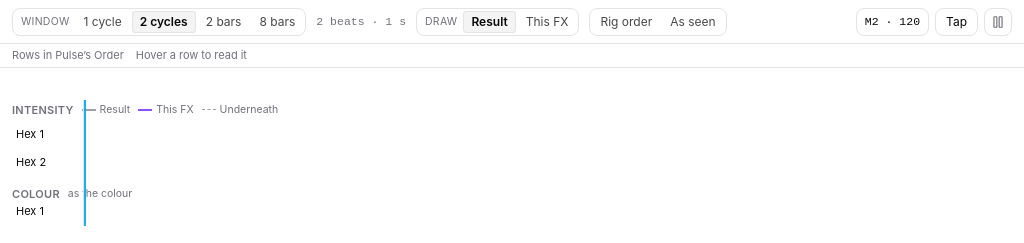
Test: the graph › keeps the toolbar’s choices as the window’s view state
Click the button "8 bars" at (277, 22), box left=252, top=10, right=303, bottom=32
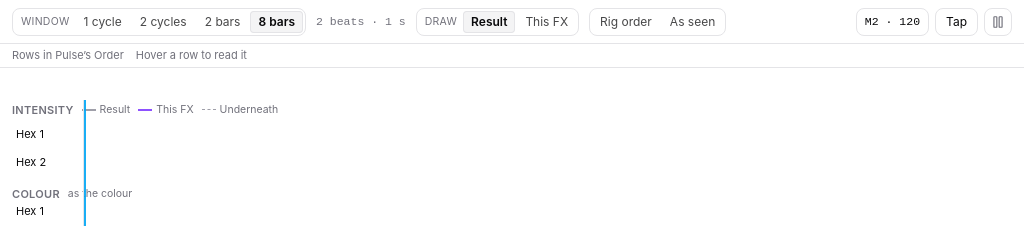
Click the button "This FX" at (547, 22), box left=517, top=10, right=576, bottom=32
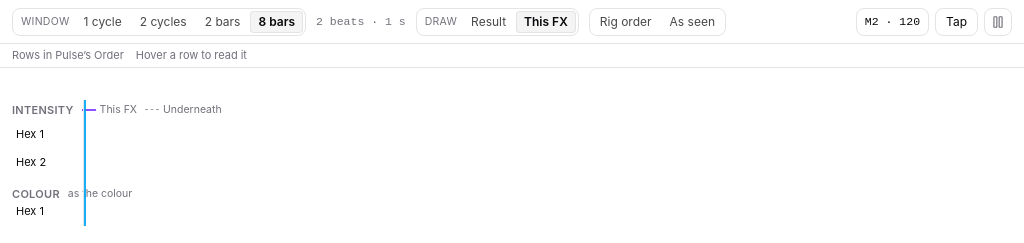
Click the button "Rig order" at (626, 22), box left=592, top=10, right=660, bottom=32
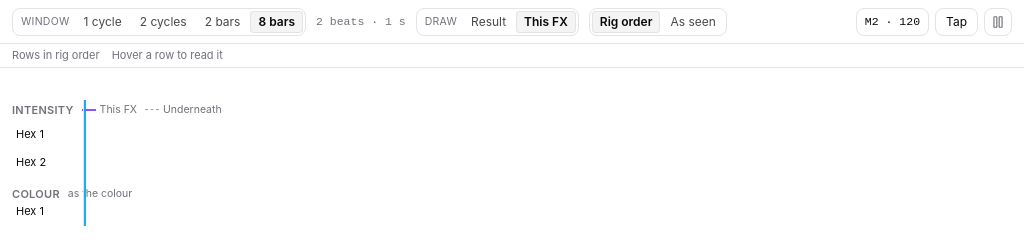
Click the button "As seen" at (693, 22), box left=662, top=10, right=724, bottom=32
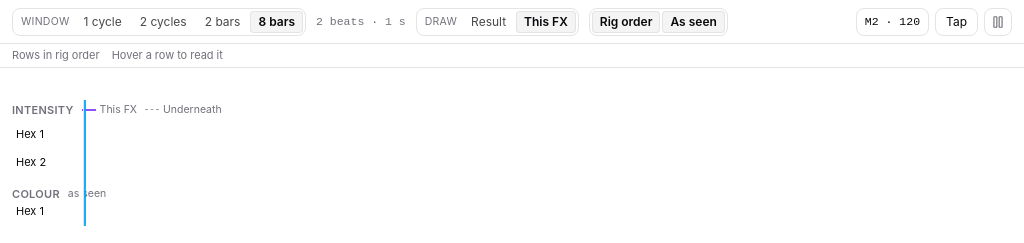
Click the button named "Pause the playhead" at (998, 22), box left=984, top=8, right=1012, bottom=36
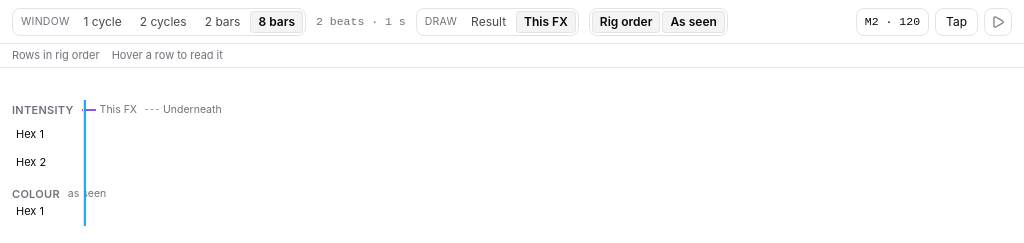
Check: the button named "Run the playhead" is shown, box left=984, top=8, right=1012, bottom=36
